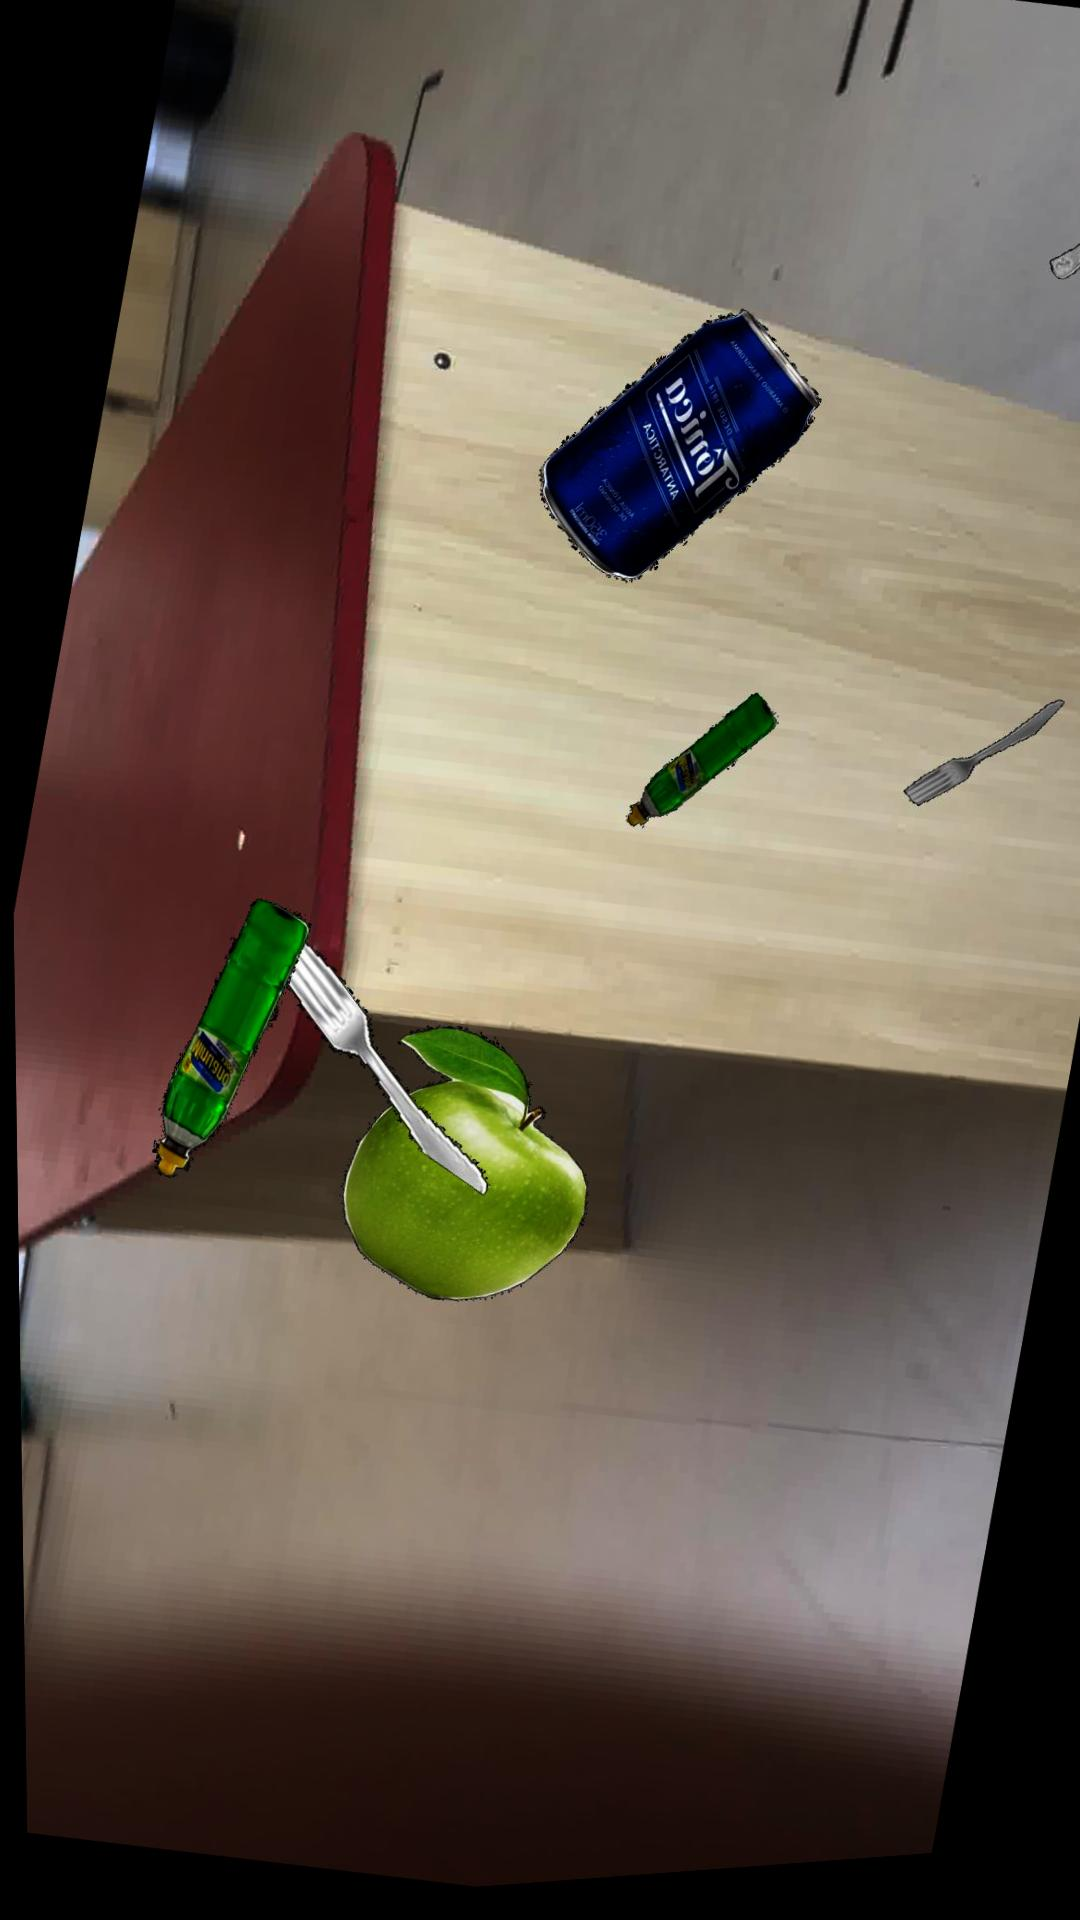cleaner: (149, 903, 310, 1180), (625, 705, 774, 837)
fork: (284, 948, 485, 1203), (902, 717, 1062, 822)
green apple: (339, 1034, 584, 1308)
spoon: (1050, 261, 1080, 297)
tonic: (539, 323, 820, 593)
